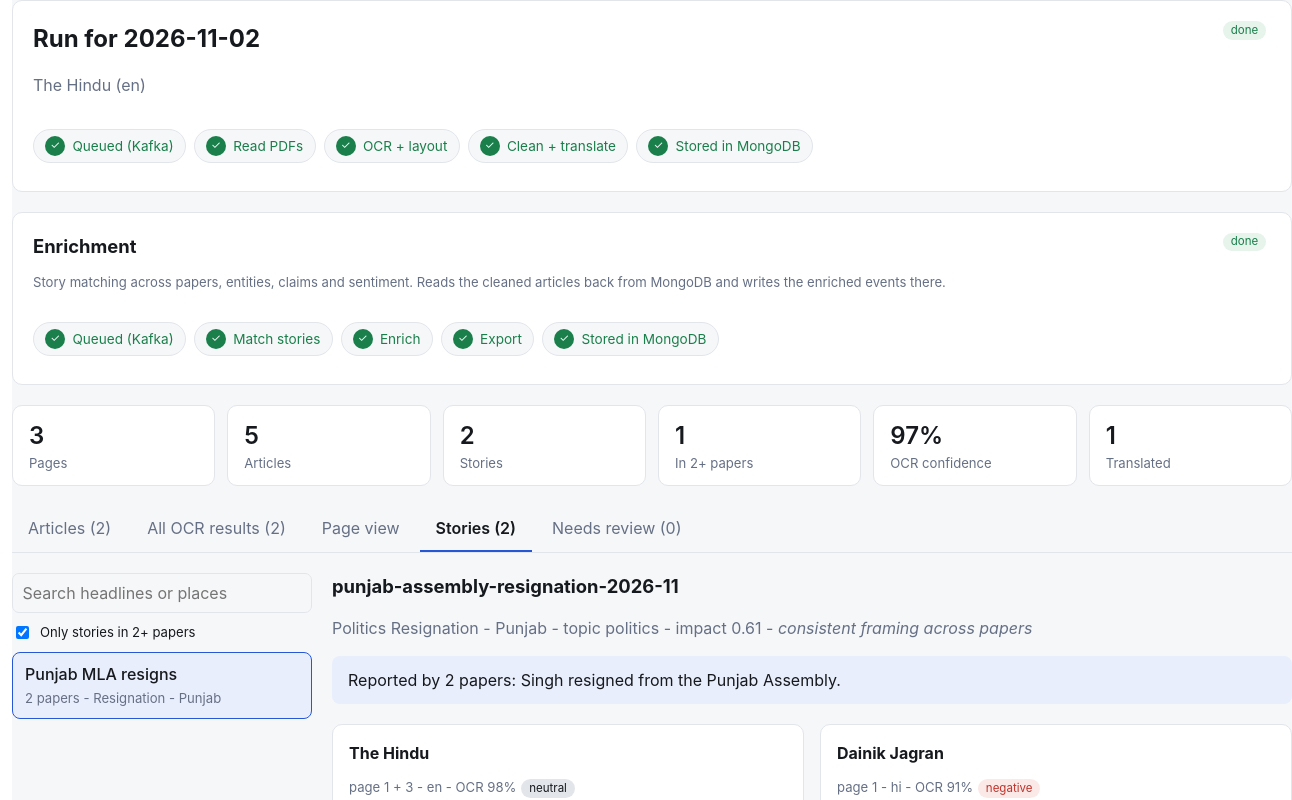
RunPage › hides relationships without a graph backend and reports other graph errors
Expected: the heading "punjab-assembly-resignation-2026-11" is shown, [332,574,679,596]
Expected: the text "Relationship graph unavailable" is not shown
Step 1. Click the checkbox labelled "Only stories in 2+ papers" → point(22, 632), box [16,626,29,639]
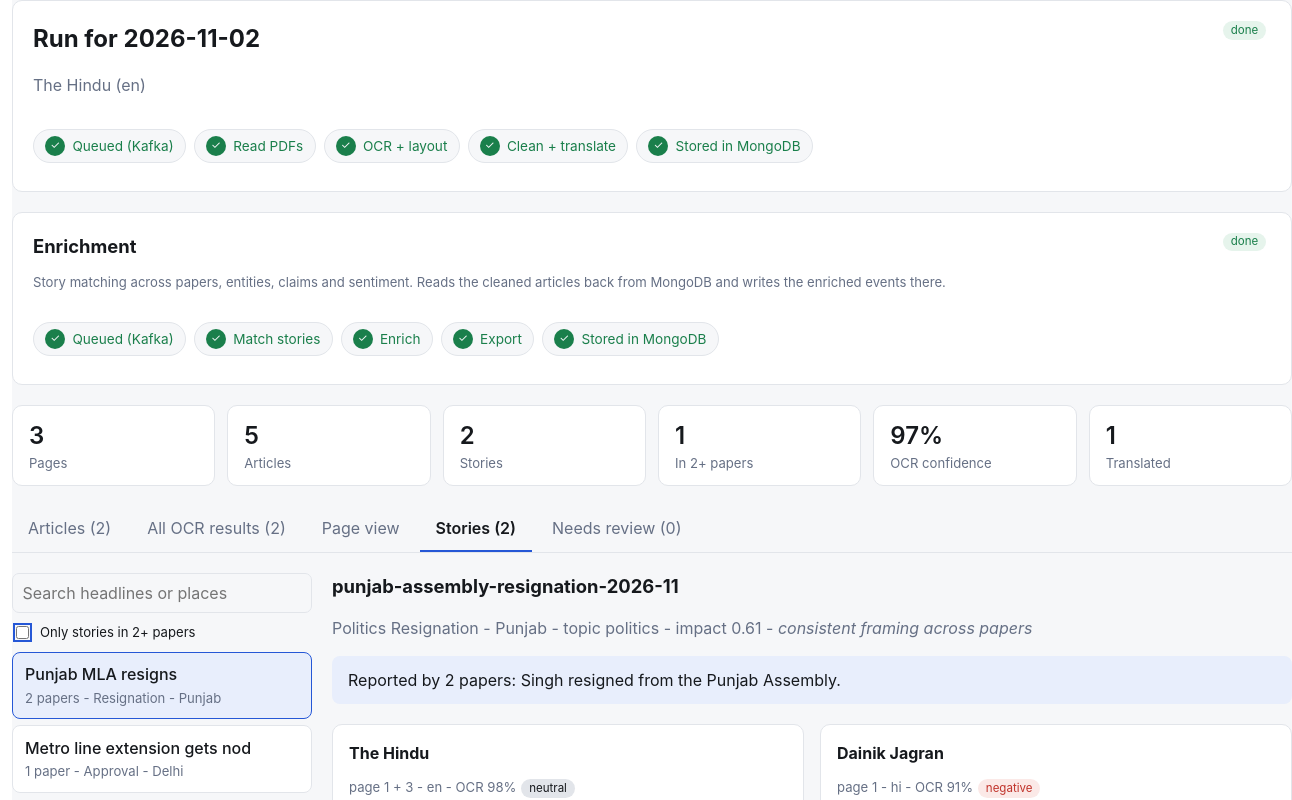
Step 2. Click the button "Metro line extension gets nod 1 paper - Approval - Delhi" → point(162, 759), box [12,726,312,793]
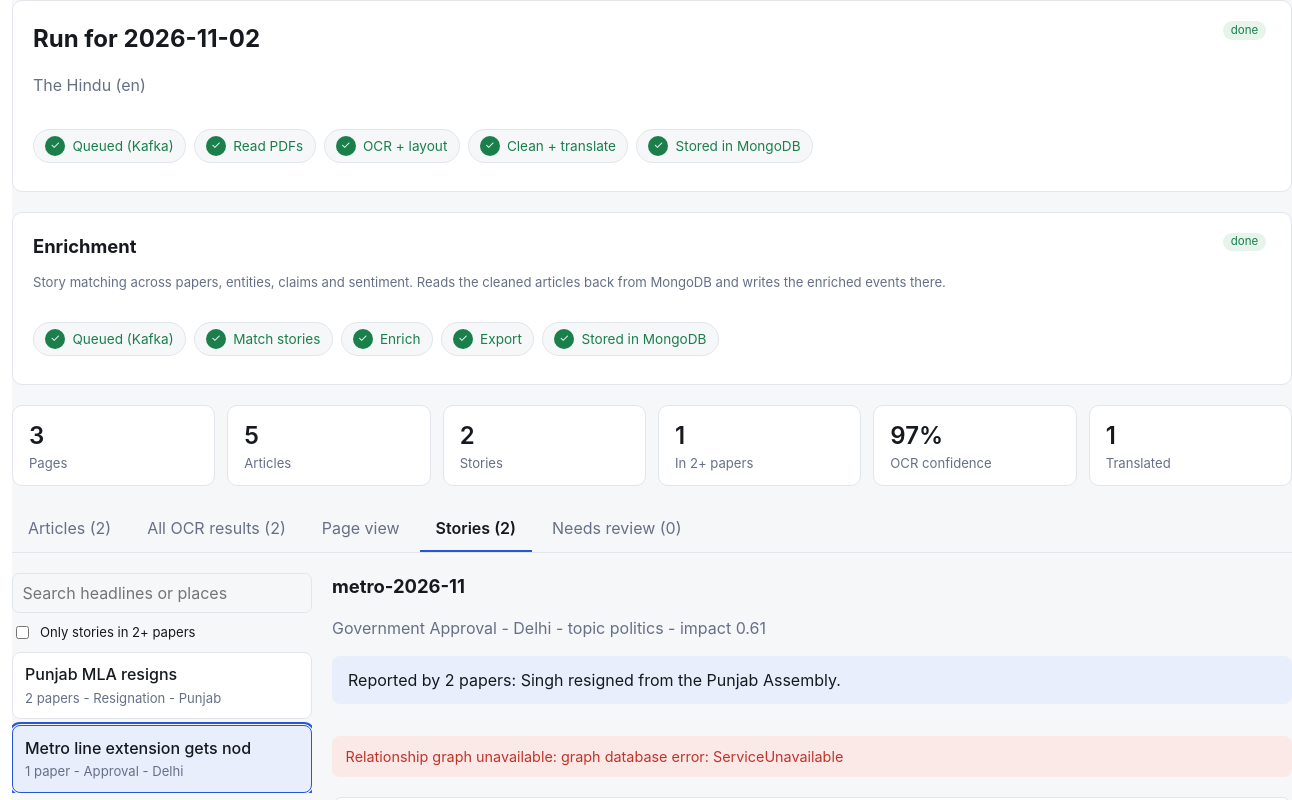
Now the text "Relationship graph unavailable: graph database error" is shown, box [332,736,1291,777]
